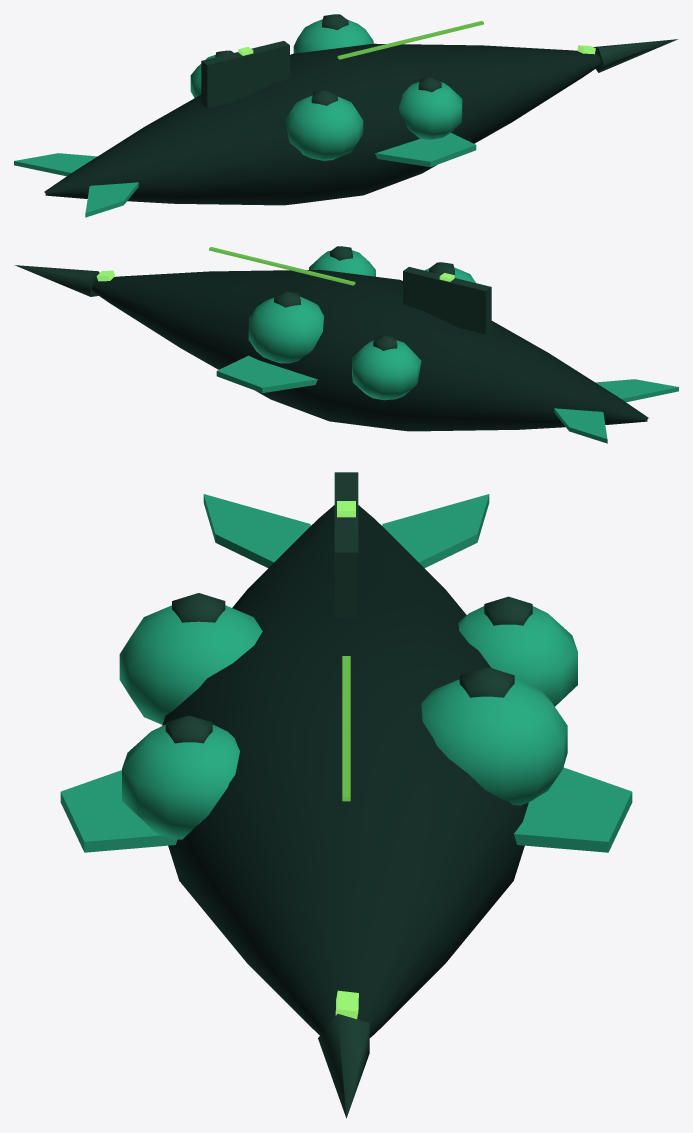
The model's file is spinner-pelagia.glb.
The picture shows the model from 3 angles, top to bottom: view 1: azimuth 30°, elevation 25°; view 2: azimuth 150°, elevation 25°; view 3: azimuth 270°, elevation 25°; orthographic projection. The views are drawn at different scales.
Visible parts, largest first — view 1: pod_body, dorsal_blade, mine_sac_0, mine_sac_1, pectoral_s, mine_sac_3, fluke_s, fluke_p, spinneret, dorsal_vein, mine_sac_2, sac_bud_3 (+1 smaller); view 2: pod_body, dorsal_blade, mine_sac_3, mine_sac_2, pectoral_p, fluke_p, spinneret, fluke_s, mine_sac_1, dorsal_vein, sac_bud_3; view 3: pod_body, mine_sac_3, mine_sac_0, mine_sac_1, pectoral_p, mine_sac_2, pectoral_s, fluke_s, fluke_p, dorsal_blade, spinneret, sac_bud_3 (+4 smaller).
Part boxes in pixels (left/top/right/bottom): pod_body: left=44, top=43, right=601, bottom=205; dorsal_blade: left=201, top=41, right=289, bottom=108; mine_sac_0: left=285, top=95, right=363, bottom=160; mine_sac_1: left=399, top=82, right=462, bottom=139; pectoral_s: left=375, top=133, right=476, bottom=167; mine_sac_3: left=293, top=19, right=373, bottom=53; fluke_s: left=85, top=182, right=138, bottom=217; fluke_p: left=14, top=153, right=97, bottom=176; spinneret: left=593, top=39, right=678, bottom=72; dorsal_vein: left=337, top=21, right=483, bottom=59; mine_sac_2: left=190, top=55, right=215, bottom=98; sac_bud_3: left=322, top=14, right=348, bottom=30; pod_body: left=91, top=269, right=648, bottom=431; dorsal_blade: left=403, top=267, right=491, bottom=334; mine_sac_3: left=248, top=296, right=323, bottom=363; mine_sac_2: left=352, top=340, right=421, bottom=400; pectoral_p: left=216, top=355, right=317, bottom=393; fluke_p: left=554, top=408, right=607, bottom=443; spinneret: left=14, top=265, right=99, bottom=296; fluke_s: left=595, top=379, right=678, bottom=402; mine_sac_1: left=309, top=250, right=375, bottom=276; dorsal_vein: left=209, top=247, right=355, bottom=285; sac_bud_3: left=274, top=291, right=300, bottom=307; pod_body: left=162, top=505, right=528, bottom=1037; mine_sac_3: left=421, top=679, right=567, bottom=805; mine_sac_0: left=119, top=605, right=262, bottom=724; mine_sac_1: left=122, top=724, right=239, bottom=839; pectoral_p: left=514, top=767, right=632, bottom=852; mine_sac_2: left=458, top=606, right=577, bottom=706; pectoral_s: left=60, top=770, right=177, bottom=852; fluke_s: left=203, top=494, right=310, bottom=568; fluke_p: left=382, top=494, right=489, bottom=568; dorsal_blade: left=334, top=472, right=358, bottom=618; spinneret: left=318, top=1014, right=369, bottom=1118; sac_bud_3: left=459, top=667, right=514, bottom=697.
Bounding box in the file's own units: 55 × 13.13 × 21.46.
